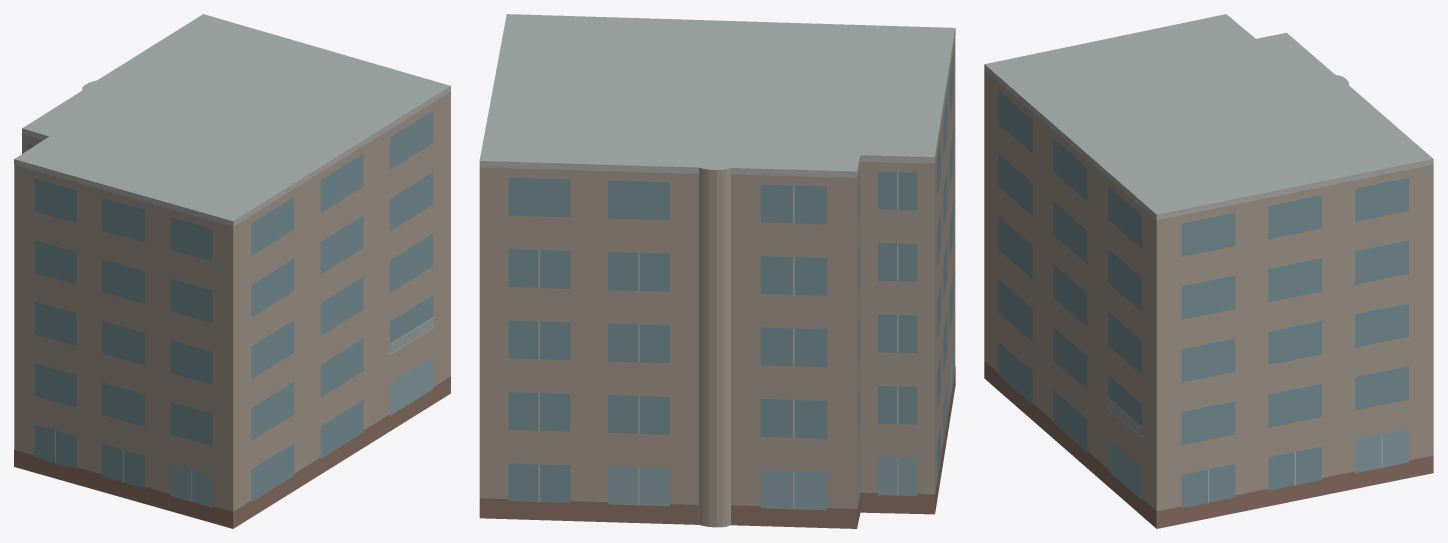
Rendered from survey-upis-33001722.glb.
3 renders of one model, left to right at view 1: azimuth 30°, elevation 25°; view 2: azimuth 150°, elevation 25°; view 3: azimuth 270°, elevation 25°, orthographic. The views are drawn at different scales.
Visible parts, largest first — view 1: survey-upis-33001722.tmp; view 2: survey-upis-33001722.tmp; view 3: survey-upis-33001722.tmp.
Boxes of the visible parts, <box> form: survey-upis-33001722.tmp: <box>14,14,450,528</box>; survey-upis-33001722.tmp: <box>479,14,955,528</box>; survey-upis-33001722.tmp: <box>984,14,1433,528</box>.
Size of the model in its own units: 18.5 by 13.5 by 17.5.
